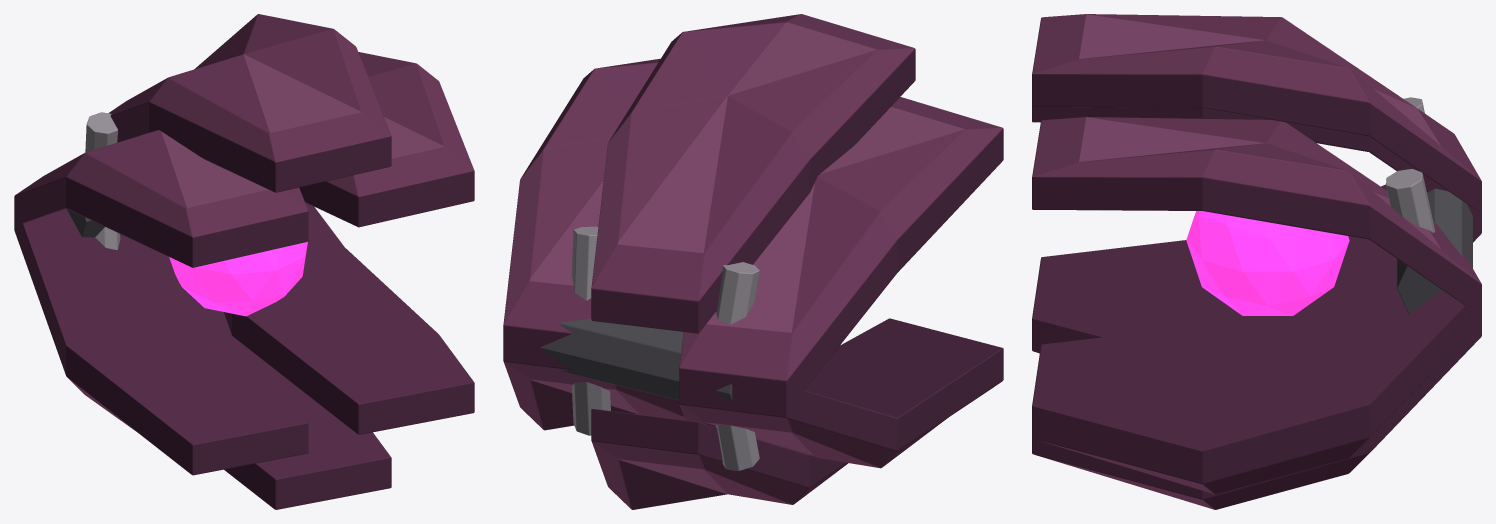
The model's file is Shutter.fbx.
The picture shows the model from 3 angles, left to right: view 1: azimuth 30°, elevation 25°; view 2: azimuth 150°, elevation 25°; view 3: azimuth 270°, elevation 25°; orthographic projection. The views are drawn at different scales.
Parts seen in each view (by area): view 1: Armor 3, Armor 1, Armor 2, Armor 4, Armor 5, Armor 6; view 2: Armor 3, Armor 1, Armor 4, Armor 5, Armor 2, Armor 6, Armor 7, Armor 8; view 3: Armor 2, Armor 3, Armor 4, Armor 1, Armor 5, Armor 7.
Boxes of the visible parts, x1,y1,x2,y2 form: Armor 3: (14,14,391,267); Armor 1: (14,202,391,509); Armor 2: (224,202,474,434); Armor 4: (299,52,474,227); Armor 5: (67,209,307,316); Armor 6: (85,112,117,152); Armor 3: (591,14,1003,412); Armor 1: (591,318,1003,509); Armor 4: (503,58,660,363); Armor 5: (540,318,759,470); Armor 2: (503,330,684,430); Armor 6: (716,262,759,324); Armor 7: (571,226,598,300); Armor 8: (572,382,610,435); Armor 2: (1032,267,1481,494); Armor 3: (1032,14,1481,228); Armor 4: (1032,117,1481,315); Armor 1: (1032,184,1481,509); Armor 5: (1186,188,1472,315); Armor 7: (1386,169,1435,232).
Bounding box in the file's own units: 0.0979 × 0.1198 × 0.1055.
